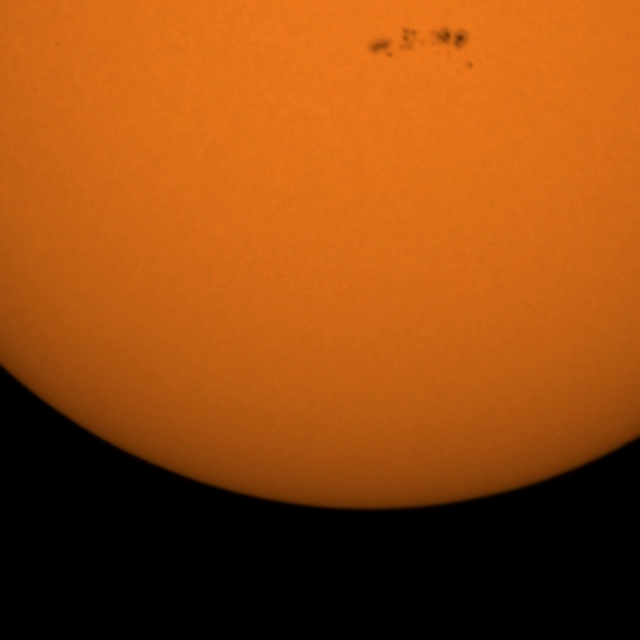sunspot: (387, 23, 468, 59), (361, 24, 432, 61), (464, 59, 476, 72)
